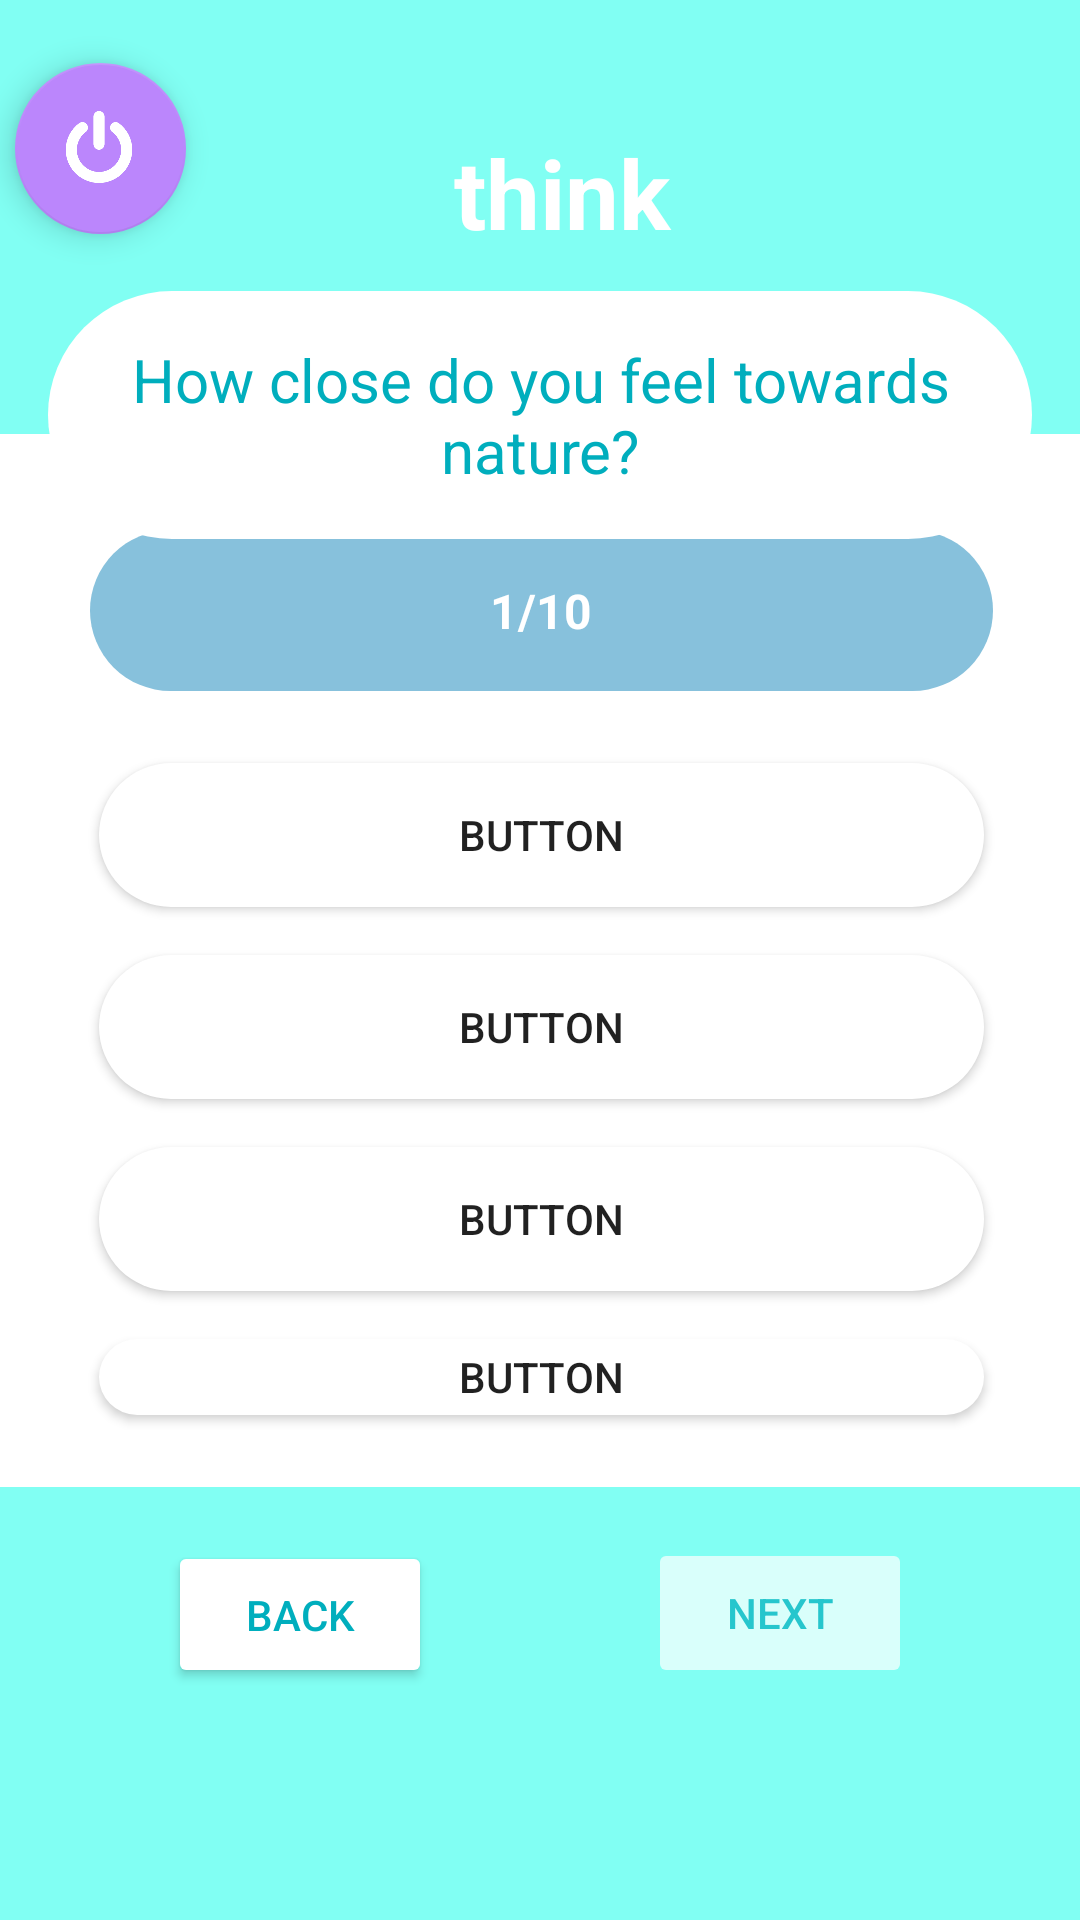

Named icons in this screenshot (1080w x 1920h) and their bounding boxes, [x1,y1,x2,y2]:
power off: [15,63,186,234]
